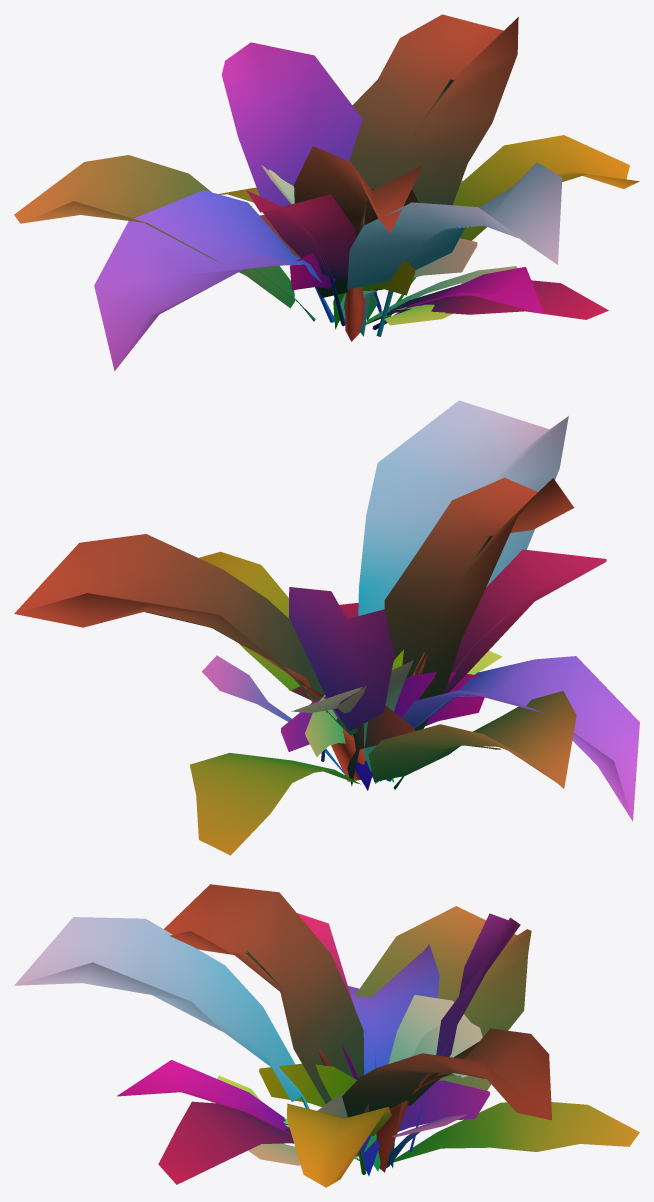
File: Lady_Fern_wdvlditia_Mid_wdvlditia_VarG_LOD1.fbx
3 views of the same model, one above another, from view 1: azimuth 30°, elevation 25°; view 2: azimuth 150°, elevation 25°; view 3: azimuth 270°, elevation 25° (orthographic). The views are drawn at different scales.
Parts seen in each view (by area): view 1: _diw7_VarG_LOD4; view 2: _diw7_VarG_LOD4; view 3: _diw7_VarG_LOD4.
Part boxes in pixels (bbox=[...]): _diw7_VarG_LOD4: bbox=[14, 14, 639, 371]; _diw7_VarG_LOD4: bbox=[14, 400, 639, 855]; _diw7_VarG_LOD4: bbox=[14, 884, 639, 1187].
Size of the model in its own units: 126 by 57.45 by 136.
